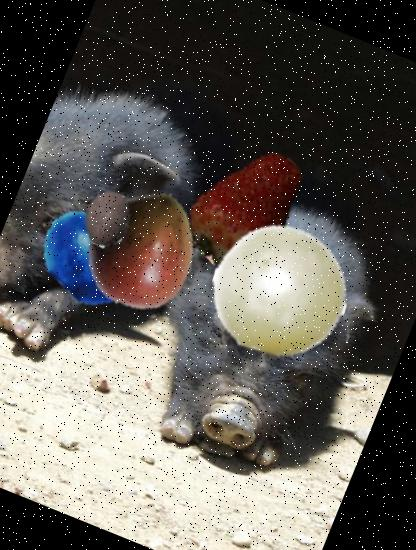Cocos: (70, 183, 144, 256)
Grape: (191, 202, 368, 379)
Huckleberry: (25, 190, 156, 320)
Mango: (62, 168, 224, 330)
Strawberry: (168, 128, 336, 296)
